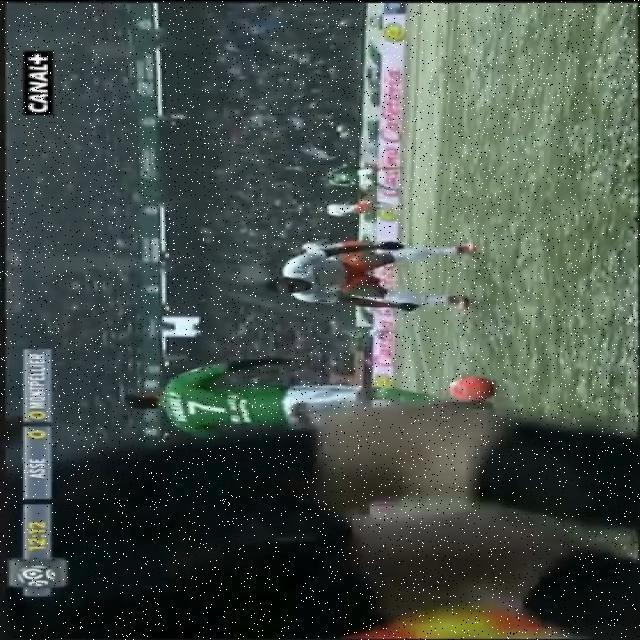ball: (410, 361, 526, 411)
player: (87, 341, 449, 451), (227, 207, 566, 315)
